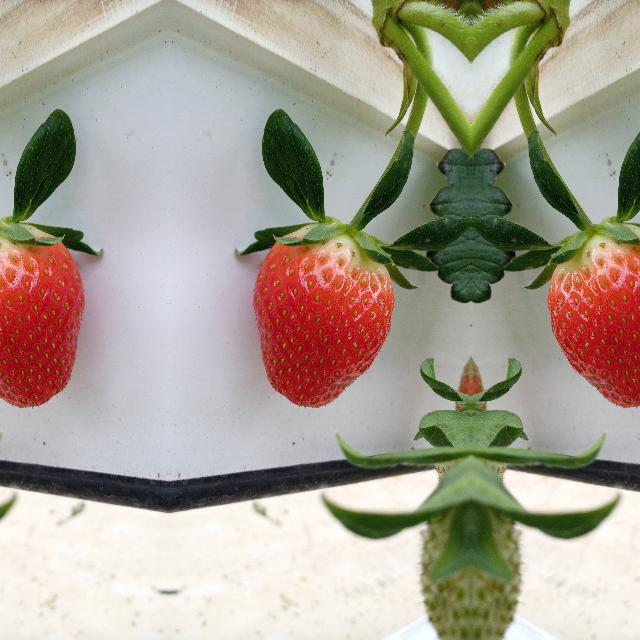Health_100: (253, 225, 394, 409), (546, 225, 640, 409), (0, 225, 82, 409)
